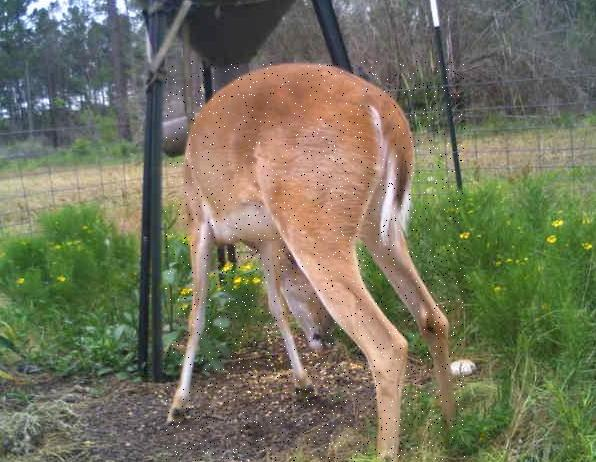Deer: (164, 60, 465, 462)
